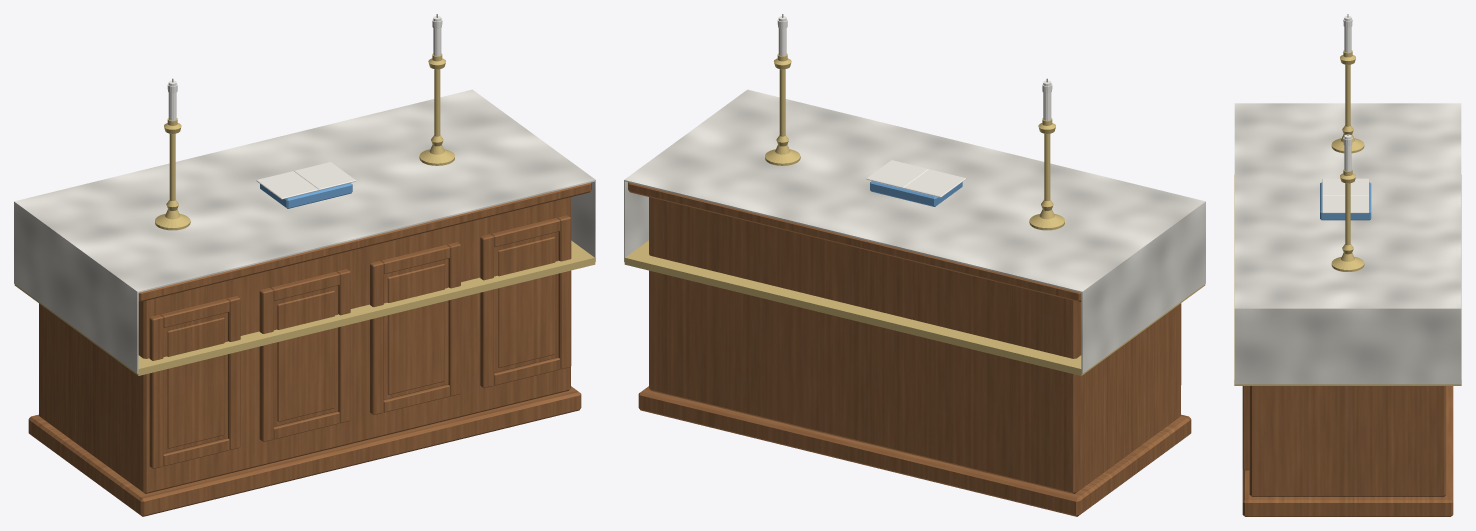
File: altar.glb
3 views of the same model, side by side, from view 1: azimuth 30°, elevation 25°; view 2: azimuth 150°, elevation 25°; view 3: azimuth 270°, elevation 25° (orthographic). The views are drawn at different scales.
Visible parts, largest first — view 1: altar_madeira, altar_toalha_altar, altar_ouro_velho, altar_papel, altar_cartela, altar_cera; view 2: altar_madeira, altar_toalha_altar, altar_ouro_velho, altar_papel, altar_cartela, altar_cera; view 3: altar_toalha_altar, altar_madeira, altar_ouro_velho, altar_papel, altar_cera, altar_cartela.
Part boxes in pixels (x1=…): altar_madeira: x1=28, y1=182, x2=591, y2=516; altar_toalha_altar: x1=14, y1=89, x2=595, y2=373; altar_ouro_velho: x1=14, y1=53, x2=595, y2=375; altar_papel: x1=256, y1=162, x2=356, y2=199; altar_cartela: x1=260, y1=183, x2=352, y2=208; altar_cera: x1=167, y1=16, x2=442, y2=120; altar_madeira: x1=628, y1=182, x2=1191, y2=516; altar_toalha_altar: x1=624, y1=89, x2=1205, y2=373; altar_ouro_velho: x1=624, y1=53, x2=1205, y2=375; altar_papel: x1=866, y1=160, x2=965, y2=197; altar_cartela: x1=870, y1=181, x2=962, y2=206; altar_cera: x1=777, y1=16, x2=1052, y2=120; altar_toalha_altar: x1=1234, y1=103, x2=1461, y2=384; altar_madeira: x1=1242, y1=386, x2=1453, y2=516; altar_ouro_velho: x1=1234, y1=50, x2=1461, y2=385; altar_papel: x1=1322, y1=178, x2=1368, y2=213; altar_cera: x1=1343, y1=16, x2=1352, y2=171; altar_cartela: x1=1320, y1=182, x2=1371, y2=220.
Size of the model in its own units: 2.08 by 1.63 by 0.972.
Materials: 7 (2 with a texture image).
